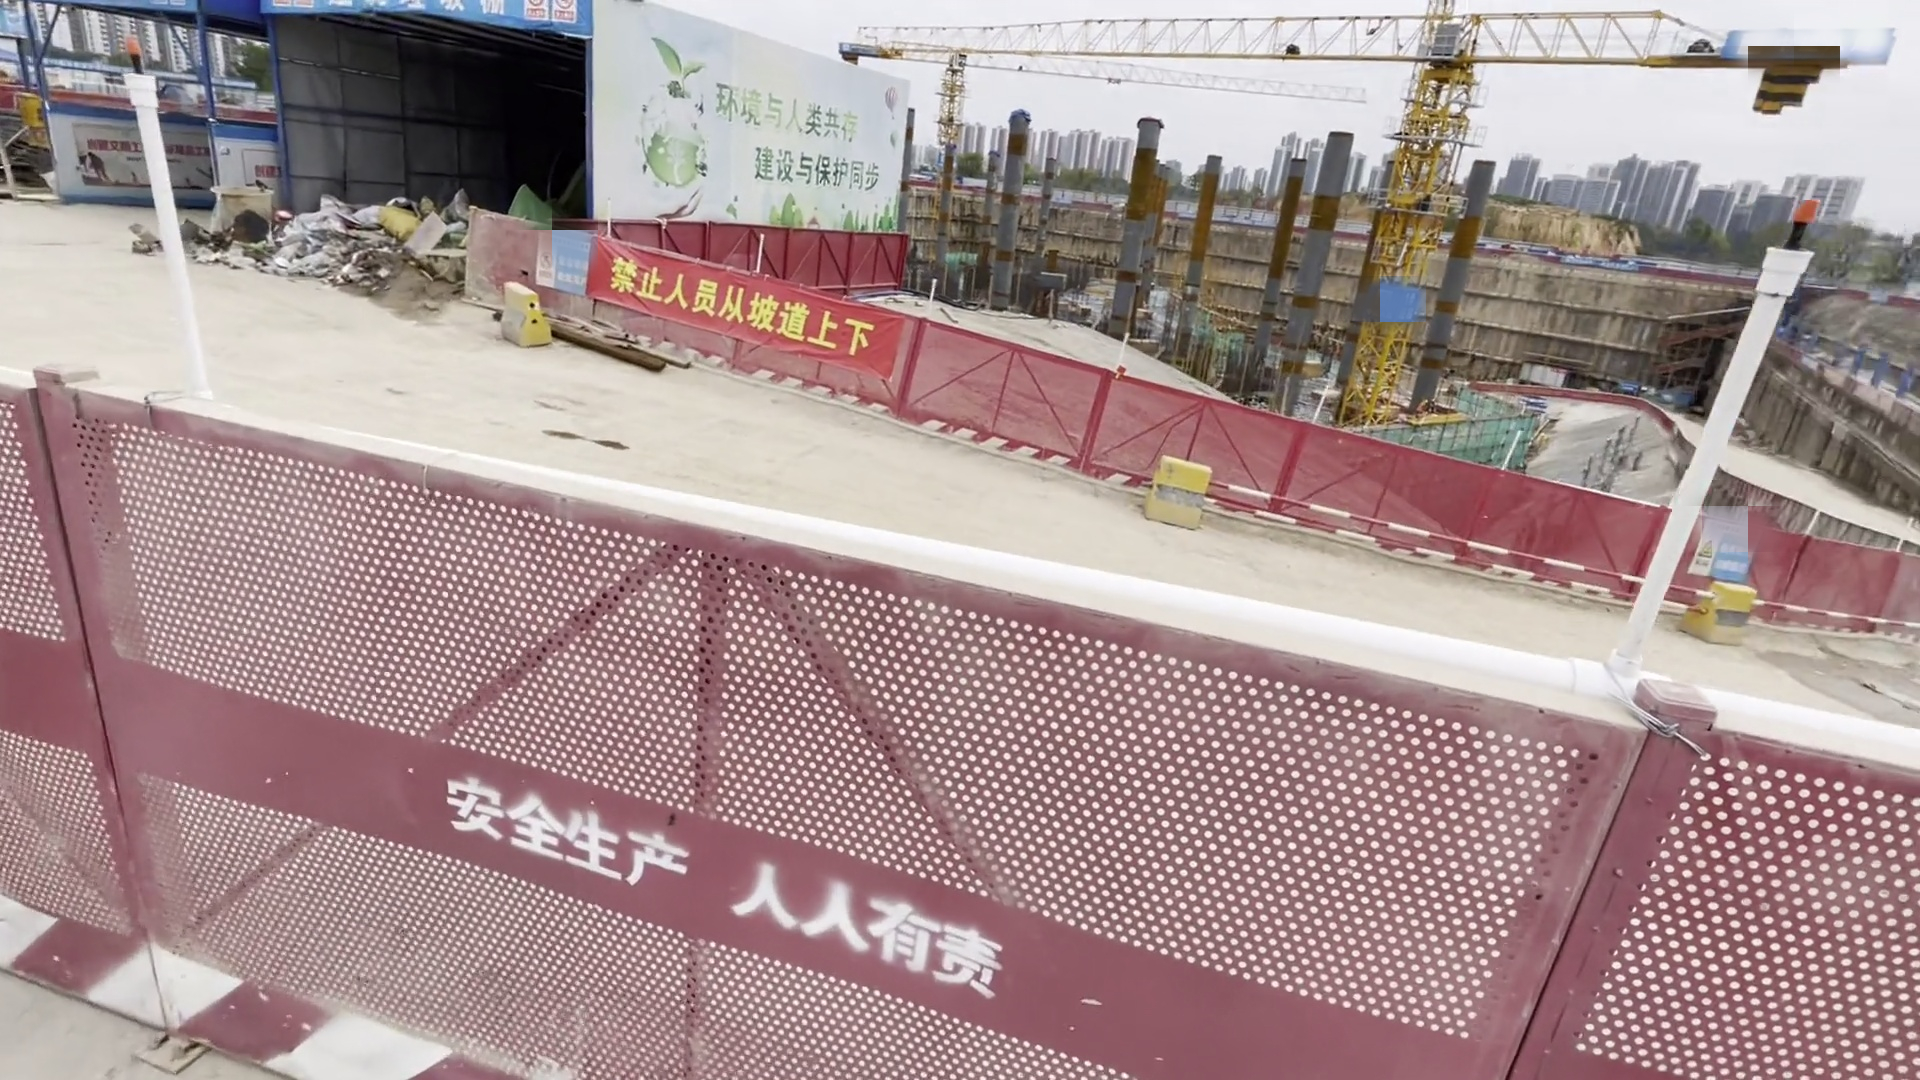fence: (4, 353, 1920, 1077)
slogan: (612, 44, 897, 240), (588, 222, 905, 371)
